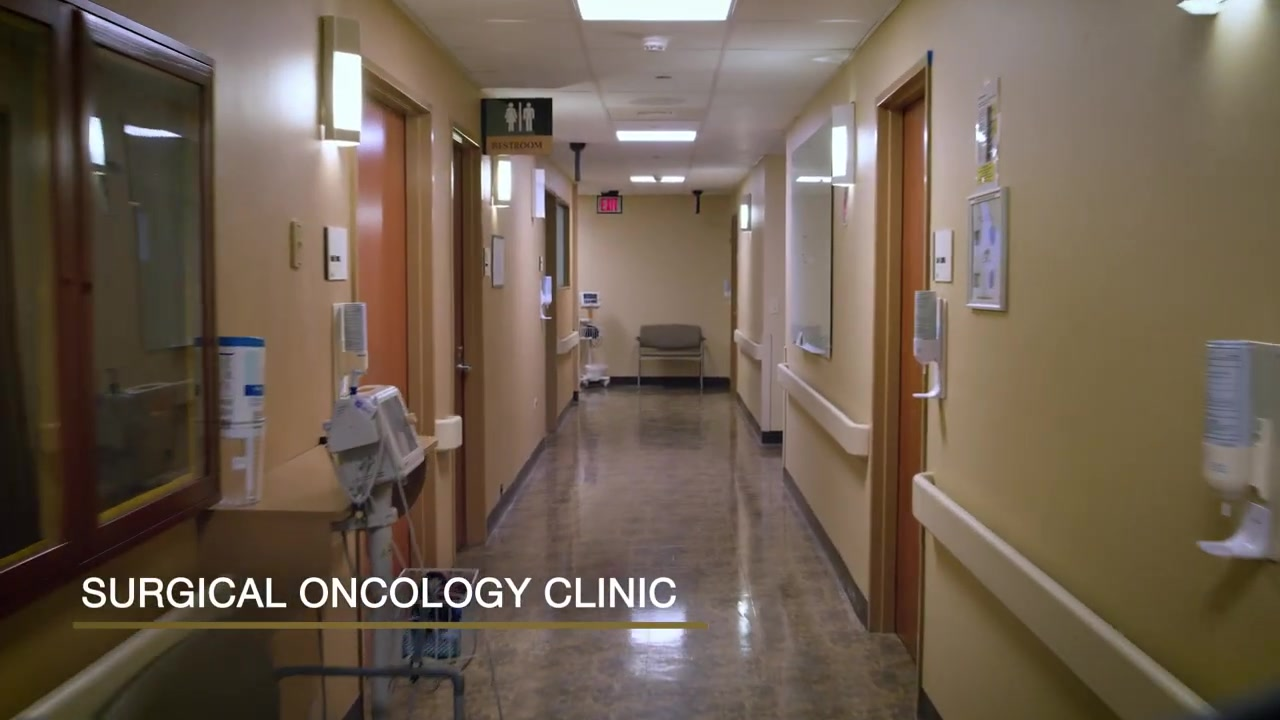chair: (96, 622, 467, 720), (635, 323, 708, 392)
countertop: (205, 434, 441, 521)
dispenser: (1192, 336, 1280, 563), (195, 334, 269, 508), (911, 289, 948, 399), (336, 299, 367, 394), (540, 275, 553, 320), (722, 278, 730, 298)
door_handle: (453, 337, 475, 381)
hallway_assist_bar: (908, 469, 1223, 720), (1, 575, 240, 720), (775, 362, 870, 457), (733, 328, 762, 361), (436, 416, 462, 451), (558, 330, 580, 355)
light_switch: (288, 219, 308, 270), (482, 244, 494, 279), (537, 255, 545, 272)
